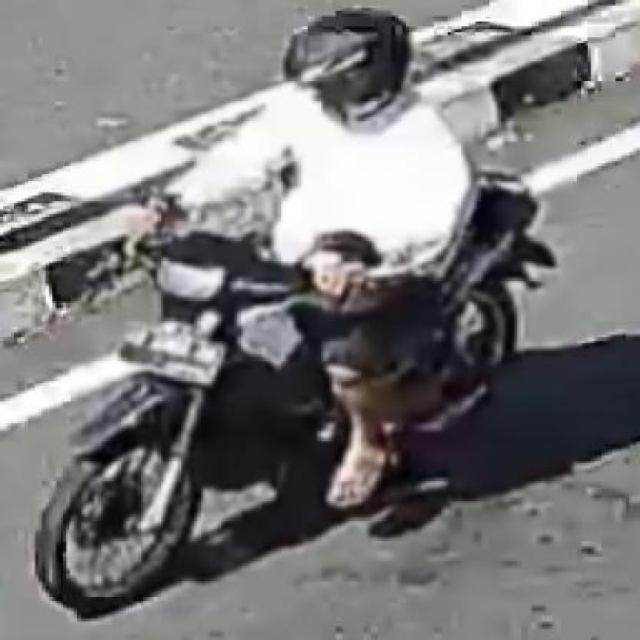helmet: (266, 0, 414, 129)
motorcycle: (21, 10, 556, 633)
